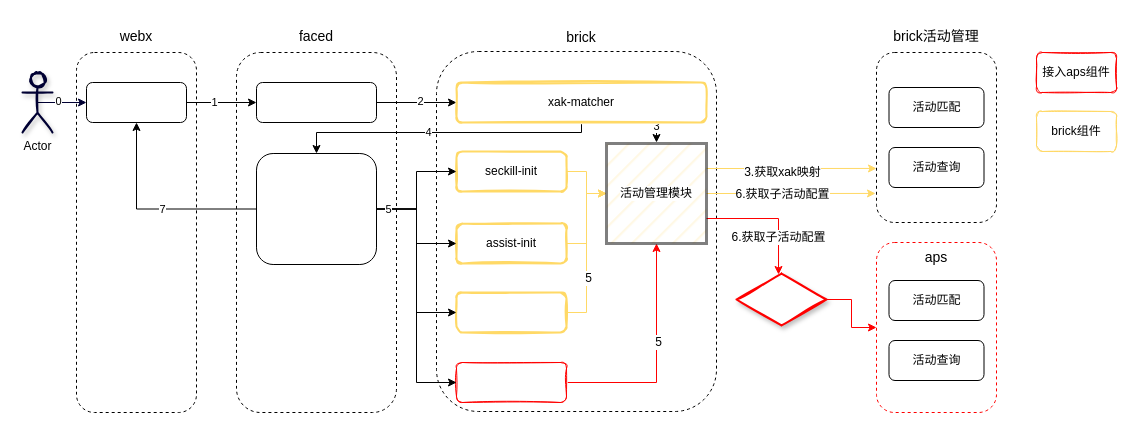
This 1134x430 diagram has some shape labels left out. The shapes that lost their labels are listed below. From the top down, each one's centre as x and y in pixels, then its label:
At pixel 136 102: "prodinit".
At pixel 316 102: "init".
At pixel 316 208: "multi-prod-init-dispatcher".
At pixel 511 312: "lottery-init".
At pixel 782 300: "aps-sdk".
At pixel 511 382: "expand-init".
